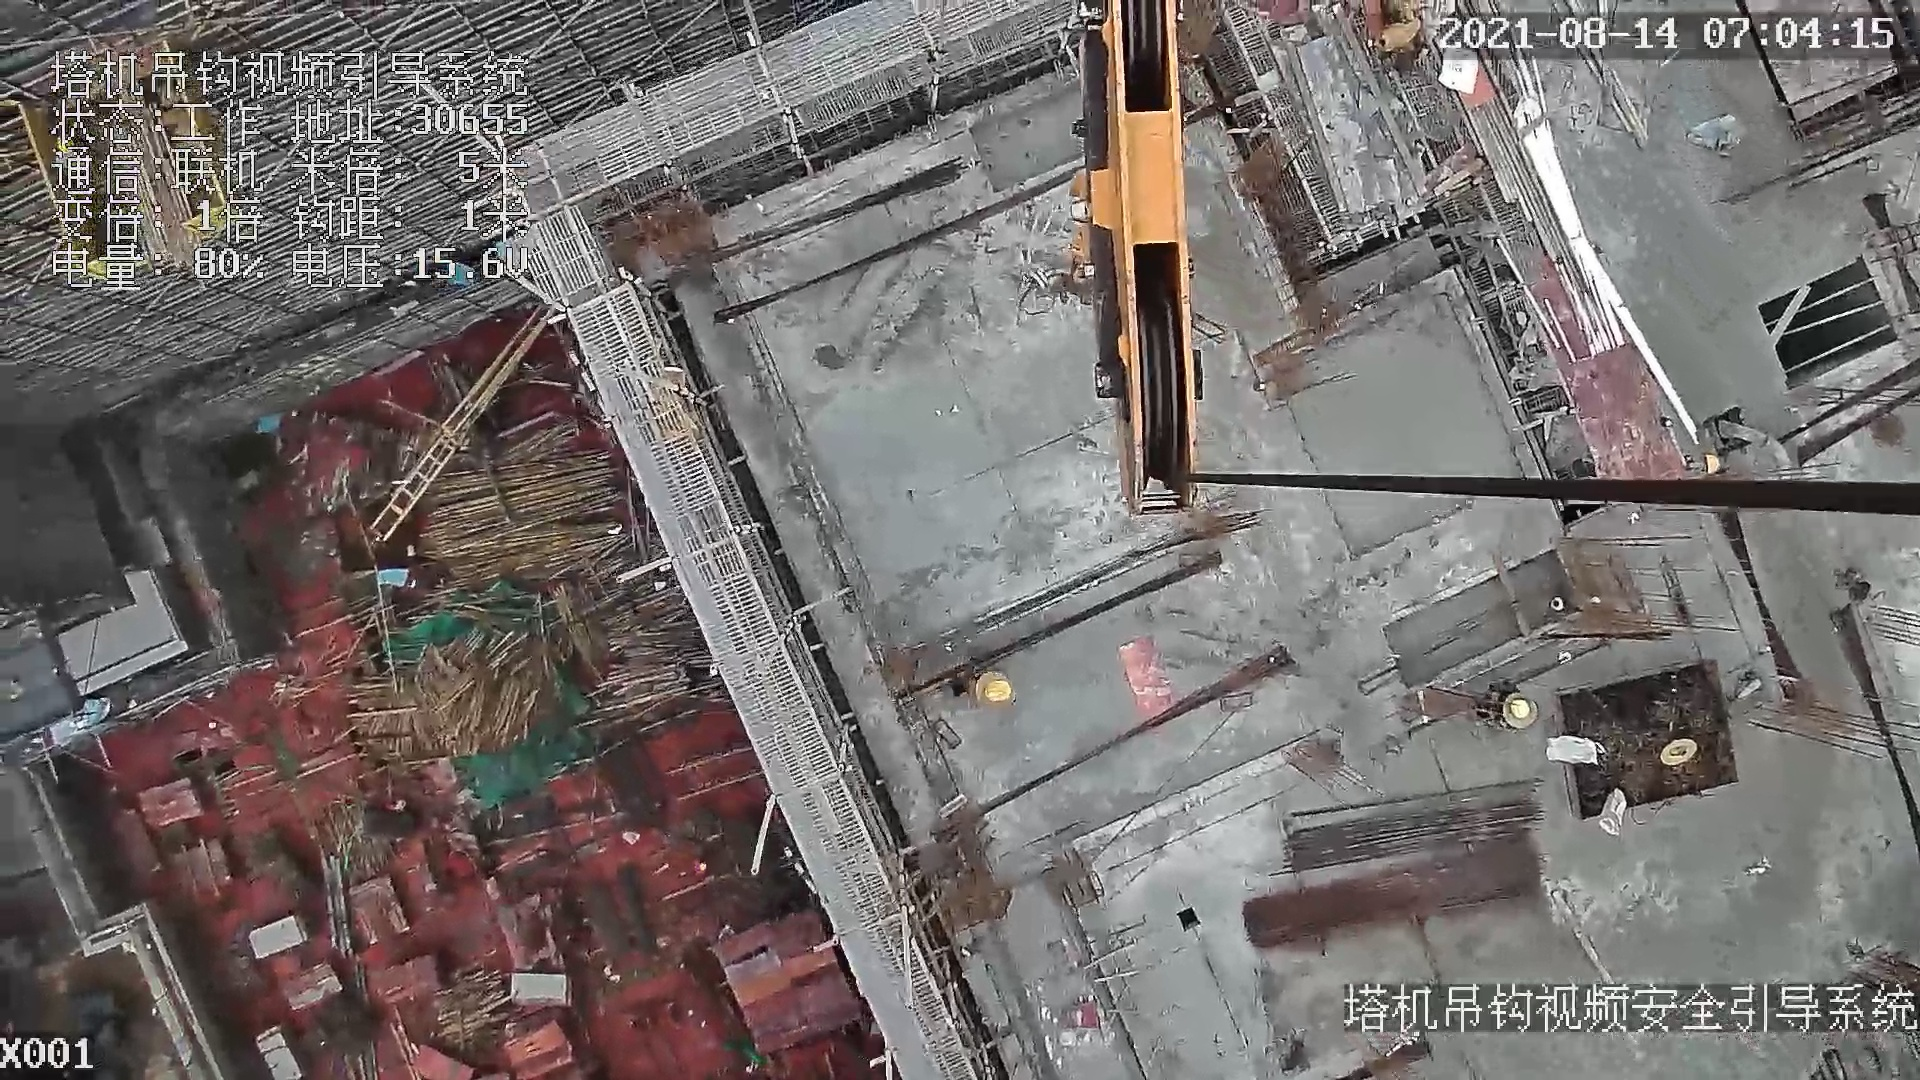hook: (1053, 1, 1200, 519)
person: (1477, 675, 1541, 736)
